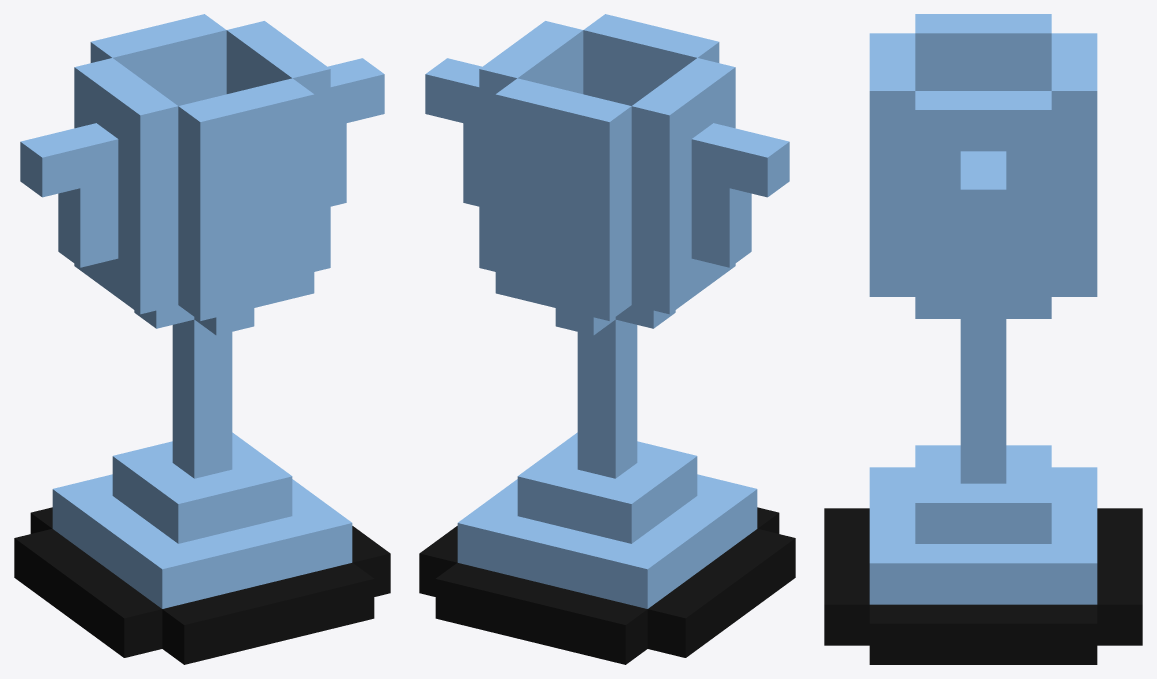
The model's file is trophy platinum A.obj.
The picture shows the model from 3 angles, left to right: view 1: azimuth 30°, elevation 25°; view 2: azimuth 150°, elevation 25°; view 3: azimuth 270°, elevation 25°; orthographic projection. The views are drawn at different scales.
Parts seen in each view (by area): view 1: trophy platinum A; view 2: trophy platinum A; view 3: trophy platinum A.
Boxes of the visible parts, box(x1,y1,x2,y2) form: trophy platinum A: box(14, 14, 390, 664); trophy platinum A: box(419, 14, 795, 664); trophy platinum A: box(824, 14, 1142, 664).
Size of the model in its own units: 9 by 13 by 7.
1 material, 1 textured.
